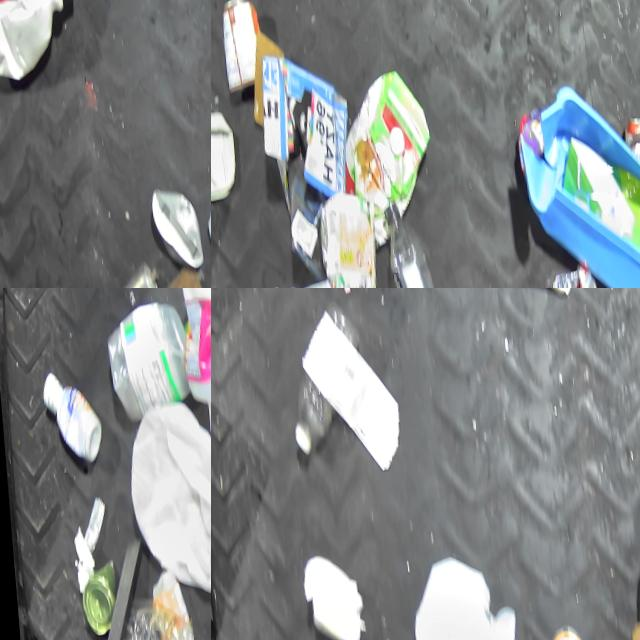can: (313, 187, 376, 288), (142, 182, 198, 270), (218, 0, 263, 95), (73, 557, 118, 636), (533, 256, 597, 288), (619, 111, 640, 171)
milk_jug: (118, 396, 211, 593), (99, 296, 193, 423), (402, 554, 516, 640), (0, 0, 79, 85), (211, 107, 236, 214)
non_white_jug: (511, 80, 640, 288), (335, 66, 434, 246)
plastic_bottle: (282, 298, 366, 453), (378, 198, 449, 288), (537, 620, 587, 640)
